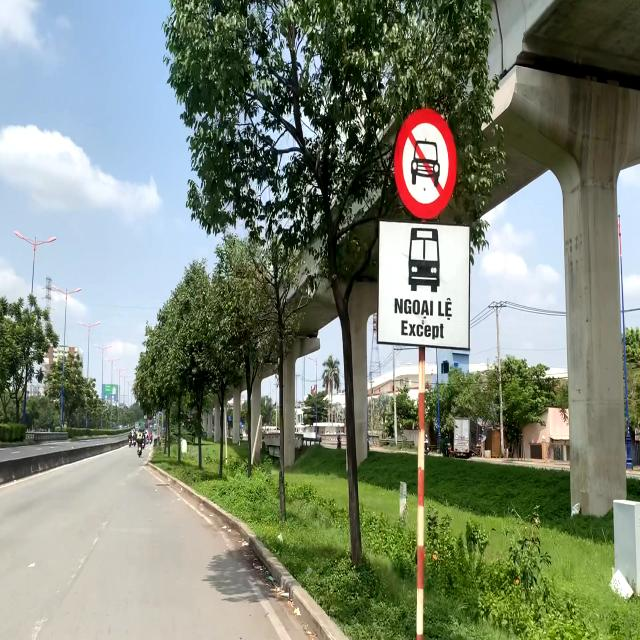P.103a: (392, 107, 459, 221)
